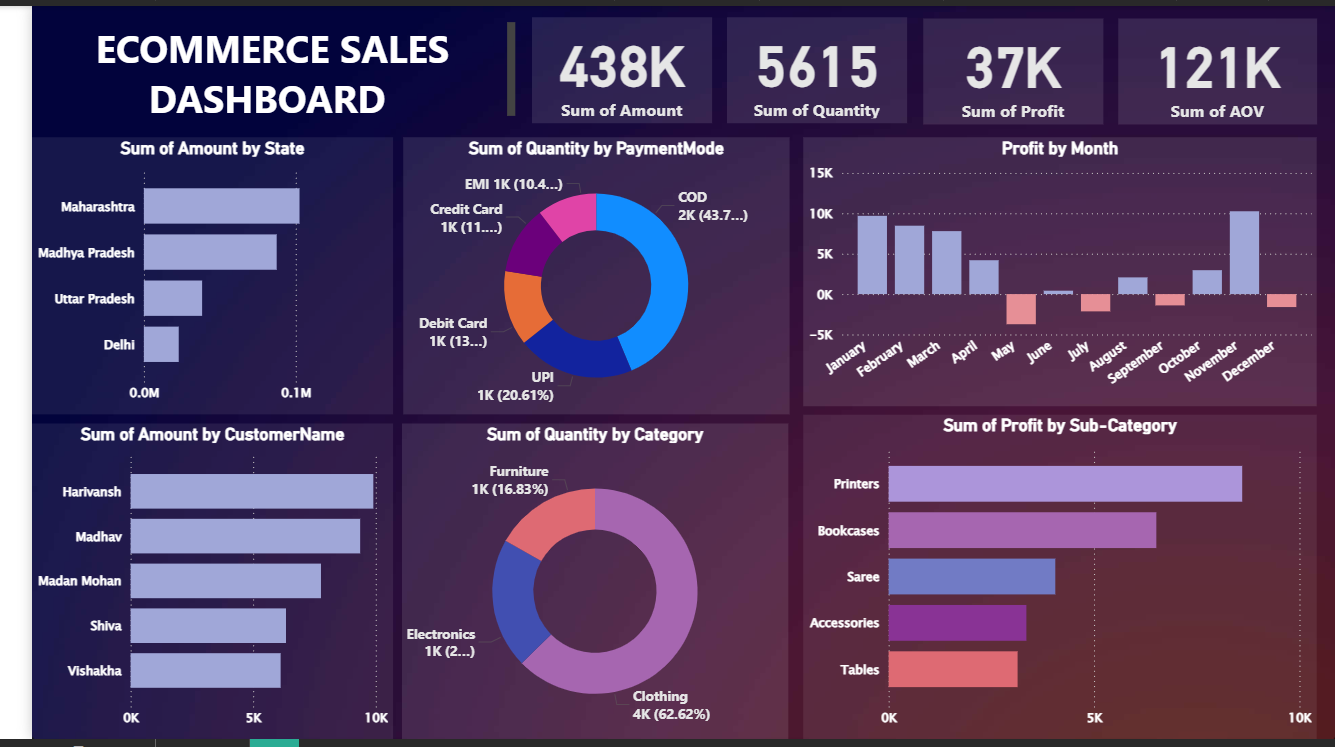

This screenshot's page, from the dashboard's own definition file:
{"tool":"powerbi","page":{"name":"Page 1","canvas":[1280,720],"ordinal":0},"visuals":[{"type":"textbox","box":[0,11,479.8,105.5],"z":0},{"type":"columnChart","title":"Profit by Month","fields":{"Category":["Orders.Order Date.Variation.Date Hierarchy.Month"],"Y":["Sum(Details.Profit)"]},"box":[757.1,128.8,504.3,263.8],"z":1},{"type":"barChart","fields":{"Category":["Details.Sub-Category"],"Y":["Sum(Details.Profit)"]},"box":[757.1,401.2,504.3,319],"z":2},{"type":"donutChart","fields":{"Category":["Details.Category"],"Y":["Sum(Details.Quantity)"]},"box":[363.2,409.8,379.1,310.4],"z":3},{"type":"donutChart","fields":{"Y":["Sum(Details.Quantity)"],"Category":["Details.PaymentMode"]},"box":[364.4,128.8,379.1,272.4],"z":4},{"type":"card","fields":{"Values":["Sum(Details.AOV)"]},"box":[1066.3,12.3,195.1,104.3],"z":5},{"type":"card","fields":{"Values":["Sum(Details.Profit)"]},"box":[874.9,12.3,176.7,104.3],"z":6},{"type":"card","fields":{"Values":["Sum(Details.Quantity)"]},"box":[682.2,11,176.7,104.3],"z":7},{"type":"card","fields":{"Values":["Sum(Details.Amount)"]},"box":[490.8,11,176.7,104.3],"z":8},{"type":"barChart","fields":{"Y":["Sum(Details.Amount)"],"Category":["Orders.State"]},"box":[0,128.8,354.6,272.4],"z":9},{"type":"barChart","fields":{"Y":["Sum(Details.Amount)"],"Category":["Orders.CustomerName"]},"box":[0,409.8,354.6,310.4],"z":10}]}

Visuals, with their boxes in screenshot pixels (x1, y1, x2, y2), scaled from the page's 1280x720 canvas onto the 1335x747 screenshot:
textbox: [0,11,500,121]
"Profit by Month" columnChart: [790,134,1316,407]
barChart - Details.Sub-Category x Sum(Details.Profit): [790,416,1316,746]
donutChart - Details.Category x Sum(Details.Quantity): [379,425,774,746]
donutChart - Sum(Details.Quantity) x Details.PaymentMode: [380,134,775,416]
card - Sum(Details.AOV): [1112,13,1316,121]
card - Sum(Details.Profit): [912,13,1097,121]
card - Sum(Details.Quantity): [712,11,896,120]
card - Sum(Details.Amount): [512,11,696,120]
barChart - Sum(Details.Amount) x Orders.State: [0,134,370,416]
barChart - Sum(Details.Amount) x Orders.CustomerName: [0,425,370,746]
